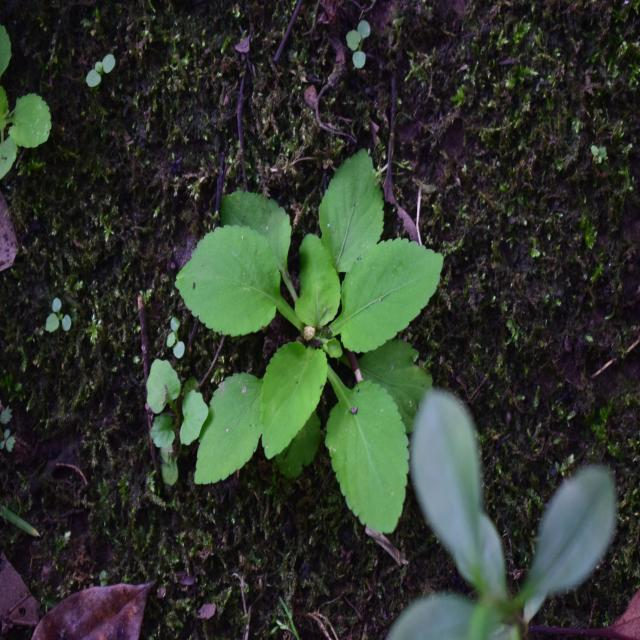Viola: (193, 159, 423, 544)
